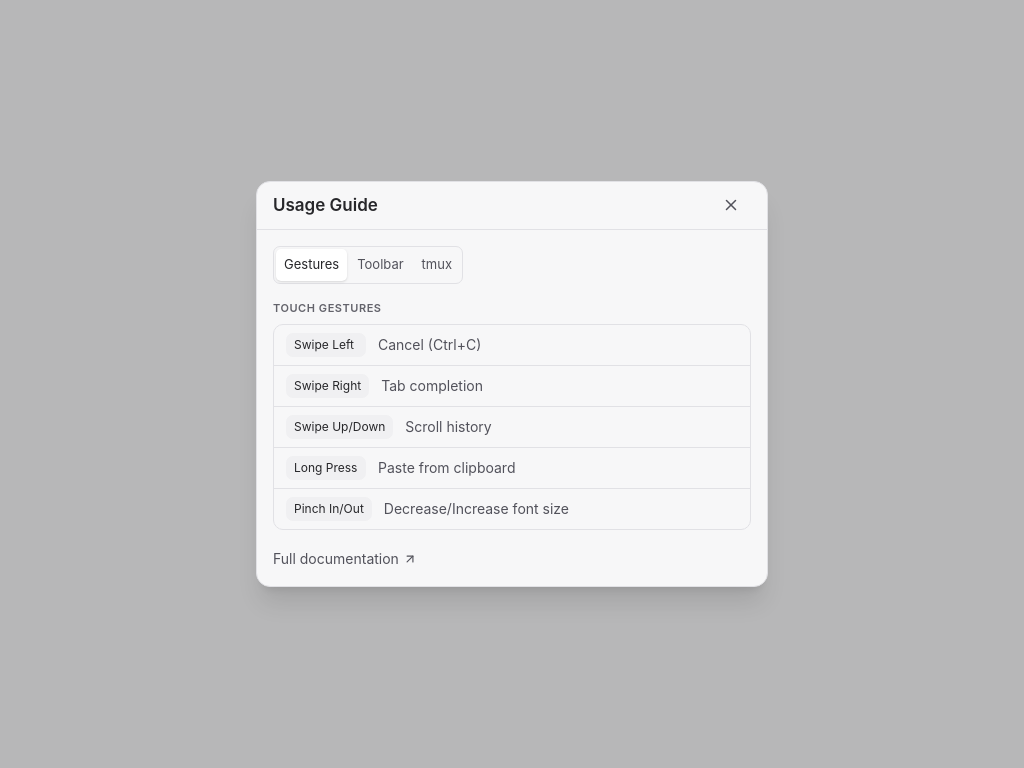
Scenario: HelpModal › shows the tmux-only toolbar rows with copy mode
Click the radio button "Toolbar". click: point(380, 265)
box: [349,249,412,281]
(page scrolled)
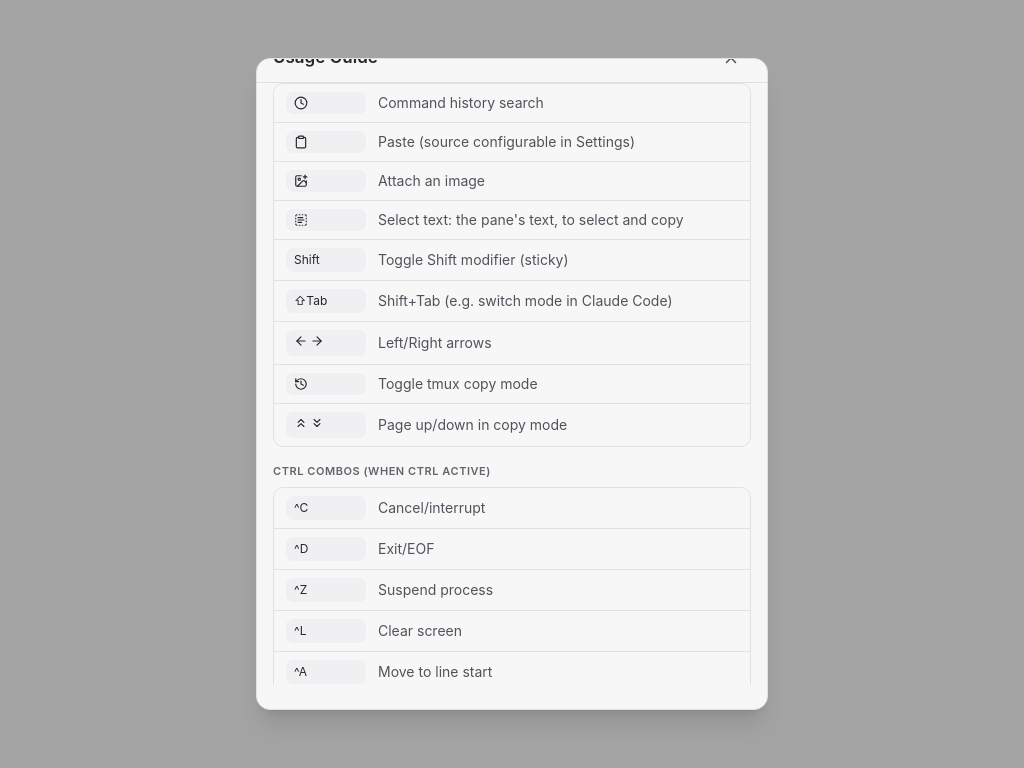
expect the text "Toggle tmux copy mode" is shown: met, box [378,374,538,394]
expect the text "Scroll history" is gone: met
